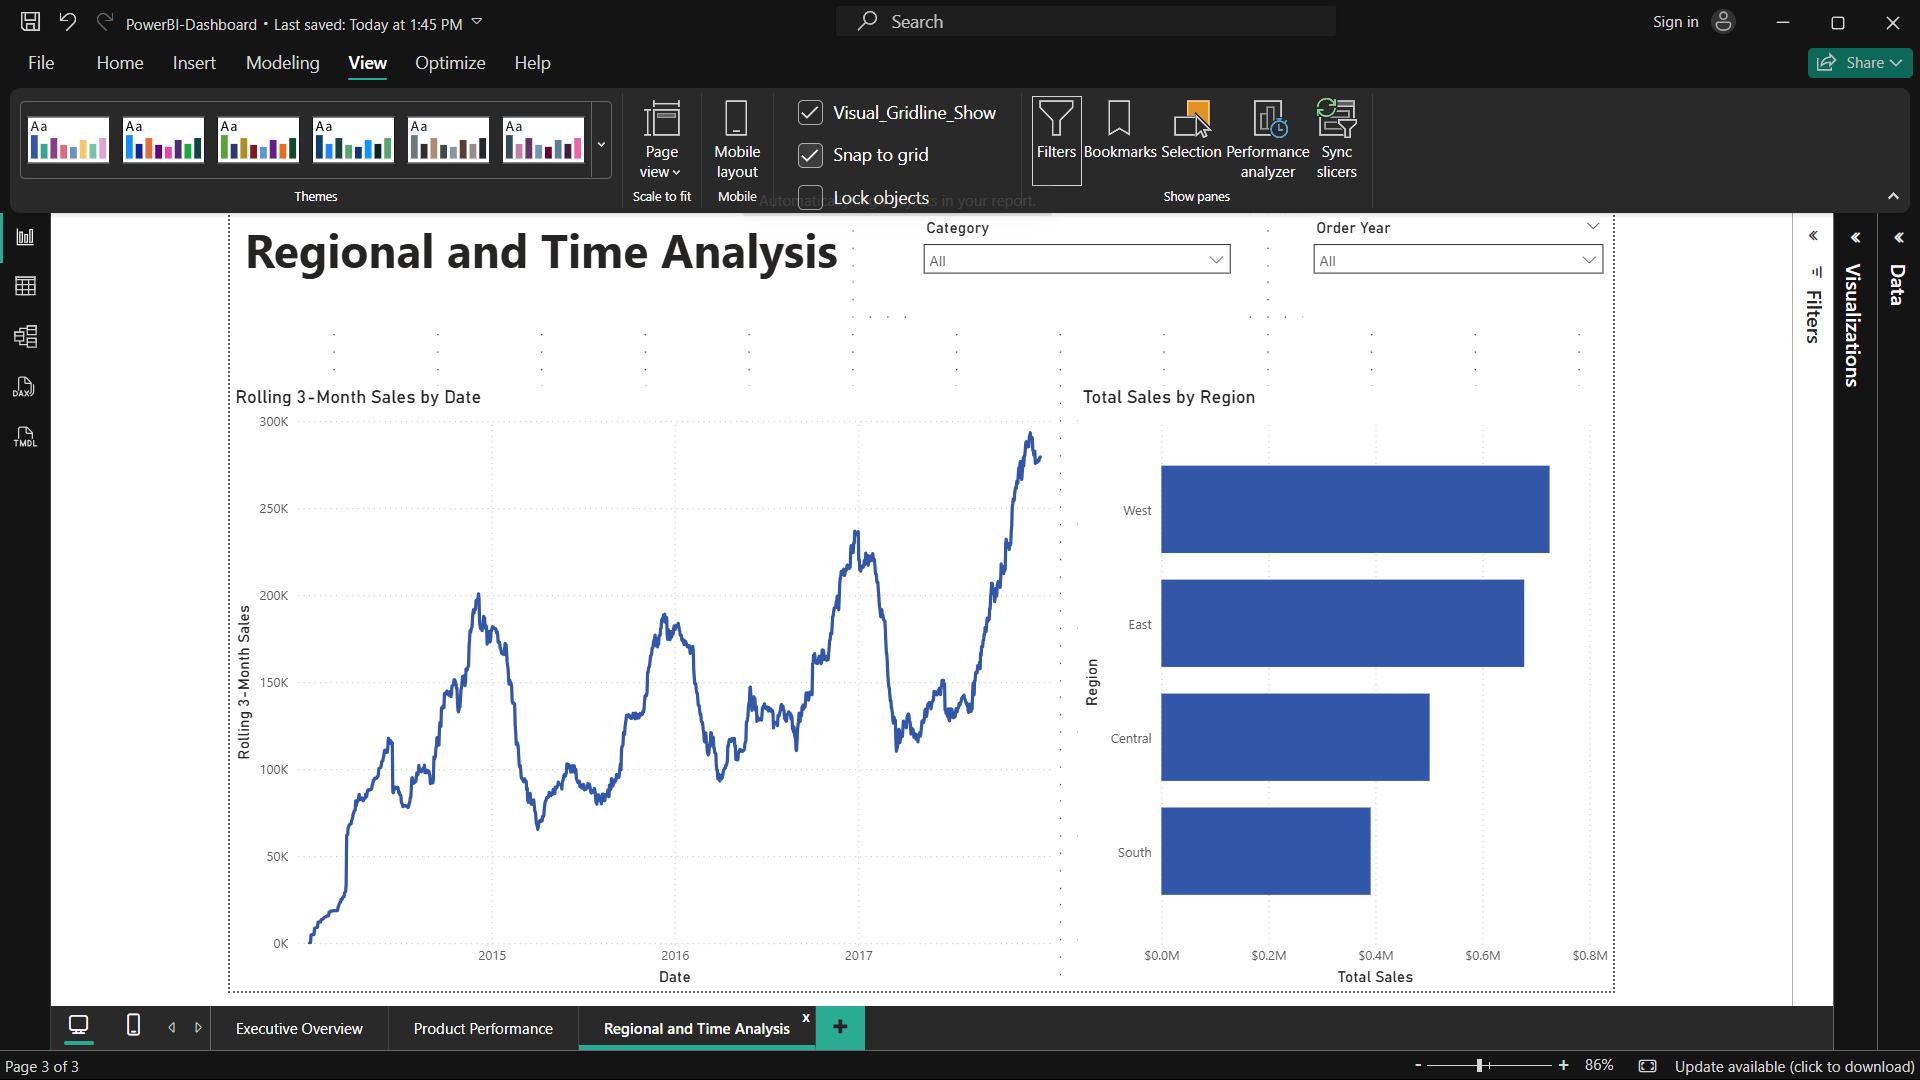

The page's visual inventory and layout, read from the dashboard file:
{"tool":"powerbi","page":{"name":"Regional and Time Analysis","canvas":[1280,720],"ordinal":2},"visuals":[{"type":"clusteredBarChart","fields":{"Category":["sales.Region","sales.Segment"],"Y":["DateTable.Total Sales"]},"box":[784,160,496,560],"z":0},{"type":"lineChart","fields":{"Y":["DateTable.Rolling 3-Month Sales"],"Category":["DateTable.Date"]},"box":[0,160,768,560],"z":1000},{"type":"slicer","fields":{"Values":["sales.Order Year"]},"box":[992,0,288,112],"z":3000},{"type":"slicer","fields":{"Values":["sales.Category"]},"box":[632,0,304,112],"z":4000},{"type":"textbox","box":[0,0,576,112],"z":4001}]}

Visuals, with their boxes on the page's 1280x720 design canvas (x1, y1, x2, y2). These are canvas units, not pixel positions in the 1920x1080 screenshot, which may show the page scaled, cropped or inside an application window:
clusteredBarChart - sales.Region x sales.Segment: Rect(784, 160, 1280, 720)
lineChart - DateTable.Rolling 3-Month Sales x DateTable.Date: Rect(0, 160, 768, 720)
slicer - sales.Order Year: Rect(992, 0, 1280, 112)
slicer - sales.Category: Rect(632, 0, 936, 112)
textbox: Rect(0, 0, 576, 112)
